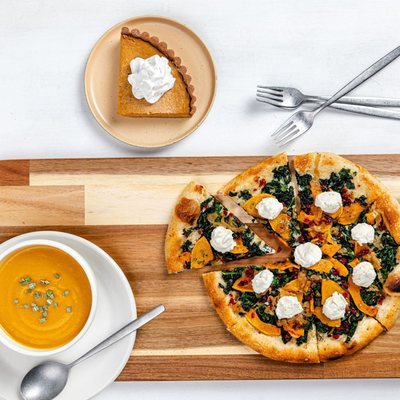burger: (268, 44, 400, 148)
salad: (19, 305, 166, 400)
sushi: (0, 232, 97, 355)
